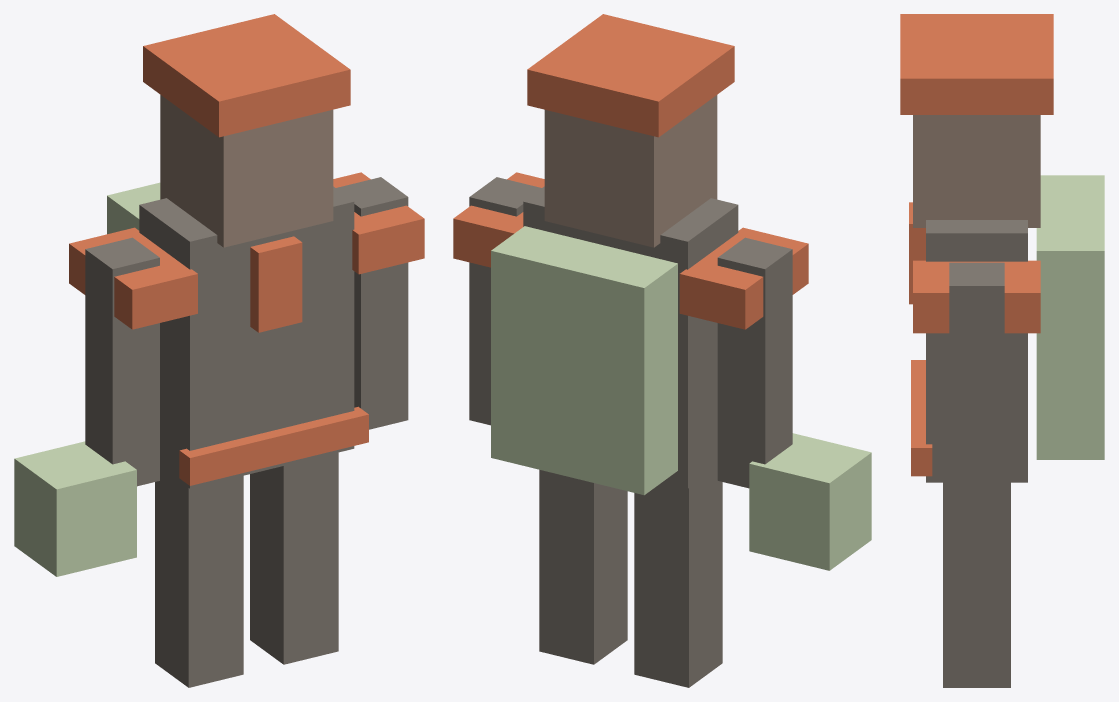
File: 06_keir_stormhush_warden_near_glyph.glb
The picture shows the model from 3 angles, left to right: view 1: azimuth 30°, elevation 25°; view 2: azimuth 150°, elevation 25°; view 3: azimuth 270°, elevation 25°; orthographic projection.
Parts seen in each view (by area): view 1: Keir Stormhush, Warden near Glyph; view 2: Keir Stormhush, Warden near Glyph; view 3: Keir Stormhush, Warden near Glyph.
Part boxes in pixels (left/top/right/bottom): Keir Stormhush, Warden near Glyph: left=14, top=14, right=424, bottom=687; Keir Stormhush, Warden near Glyph: left=453, top=14, right=871, bottom=687; Keir Stormhush, Warden near Glyph: left=900, top=14, right=1104, bottom=687.
Size of the model in its own units: 1.06 by 1.68 by 0.5133.
